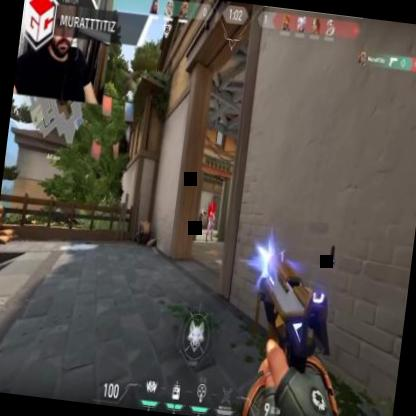enemy: (204, 205, 216, 243), (196, 206, 204, 235)
enemy_head: (202, 208, 204, 211)
